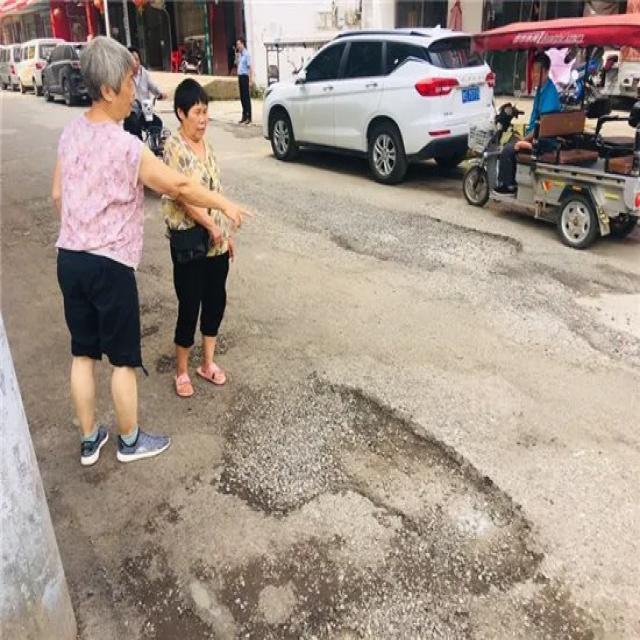Pothole: (221, 384, 542, 590), (328, 214, 521, 272), (562, 284, 639, 354)
